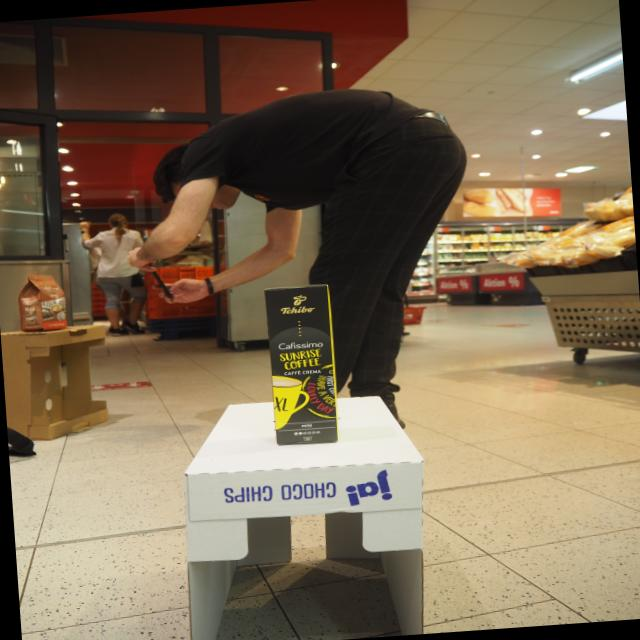Simo Sunrise: (264, 284, 338, 448)
